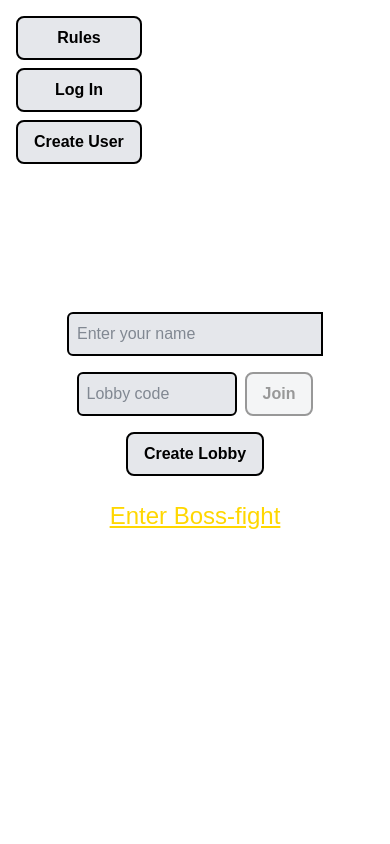
Test: HomeOverlay › "Choose new name" closes the modal and clears the typed name
In the field with placeholder "Enter your name": (195,334) [67,312,323,356], type "Alice"
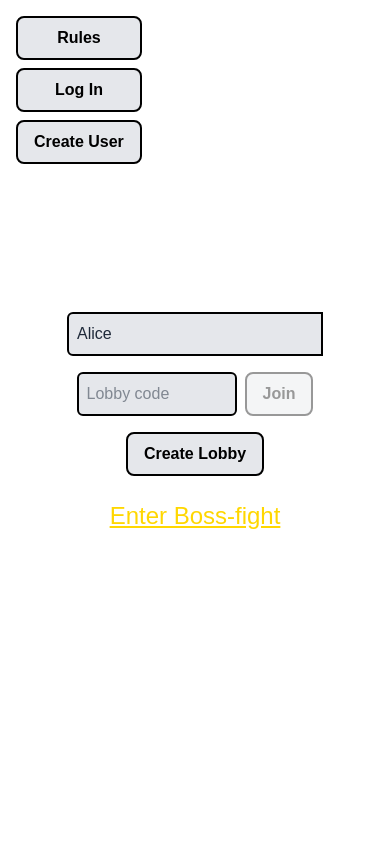
Click the button "Create Lobby": (195,454) [126,432,264,476]
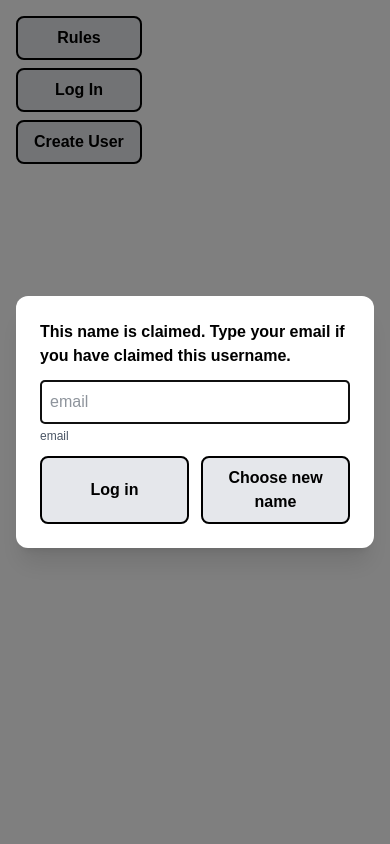
Now the text "This name is claimed. Type your email if you have claimed this username." is shown, box [40,320,350,368]
Click the button "Choose new name": (276,490) [201,456,350,524]
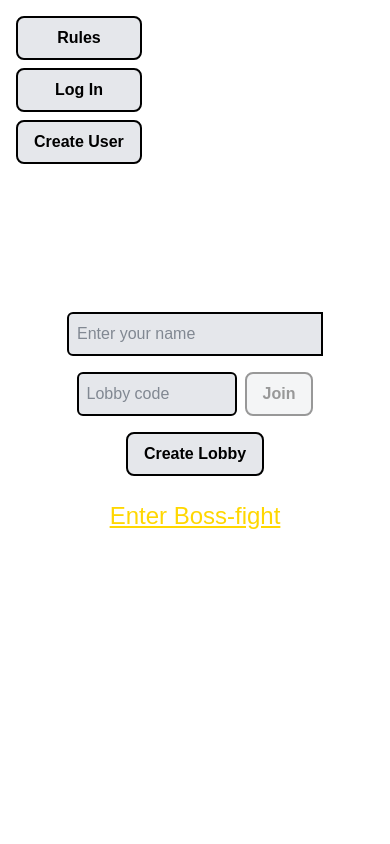
Now the text "This name is claimed. Type your email if you have claimed this username." is gone
Now the field with placeholder "Enter your name" is empty, box [67,312,323,356]
